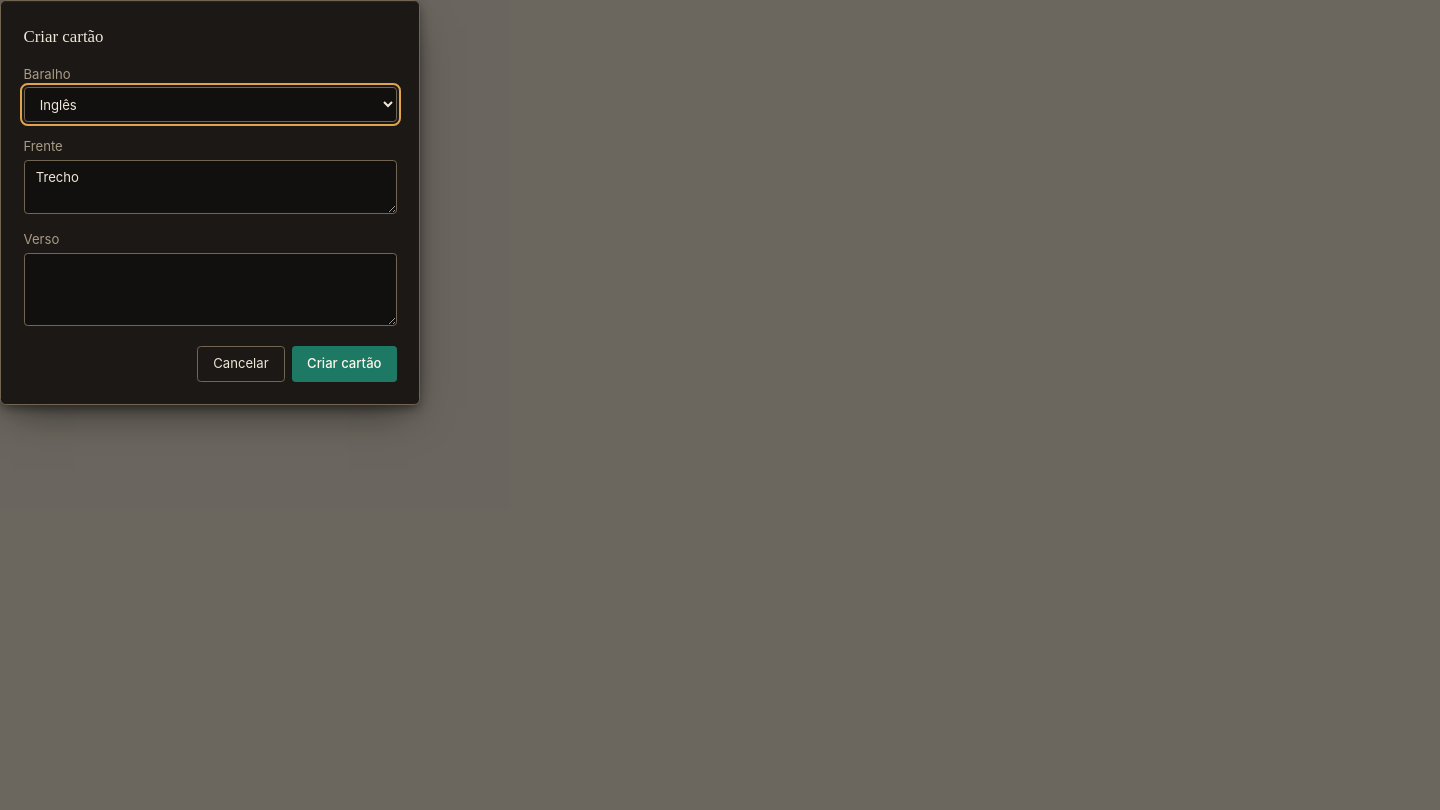
Test: CriarCartaoDeOrigem › erro ao criar mostra uma mensagem visível, nunca tela branca
This screenshot has width=1440, height=810.
In the text box labelled "Verso": x=210, y=289 [24,253,396,326], type "Verso"
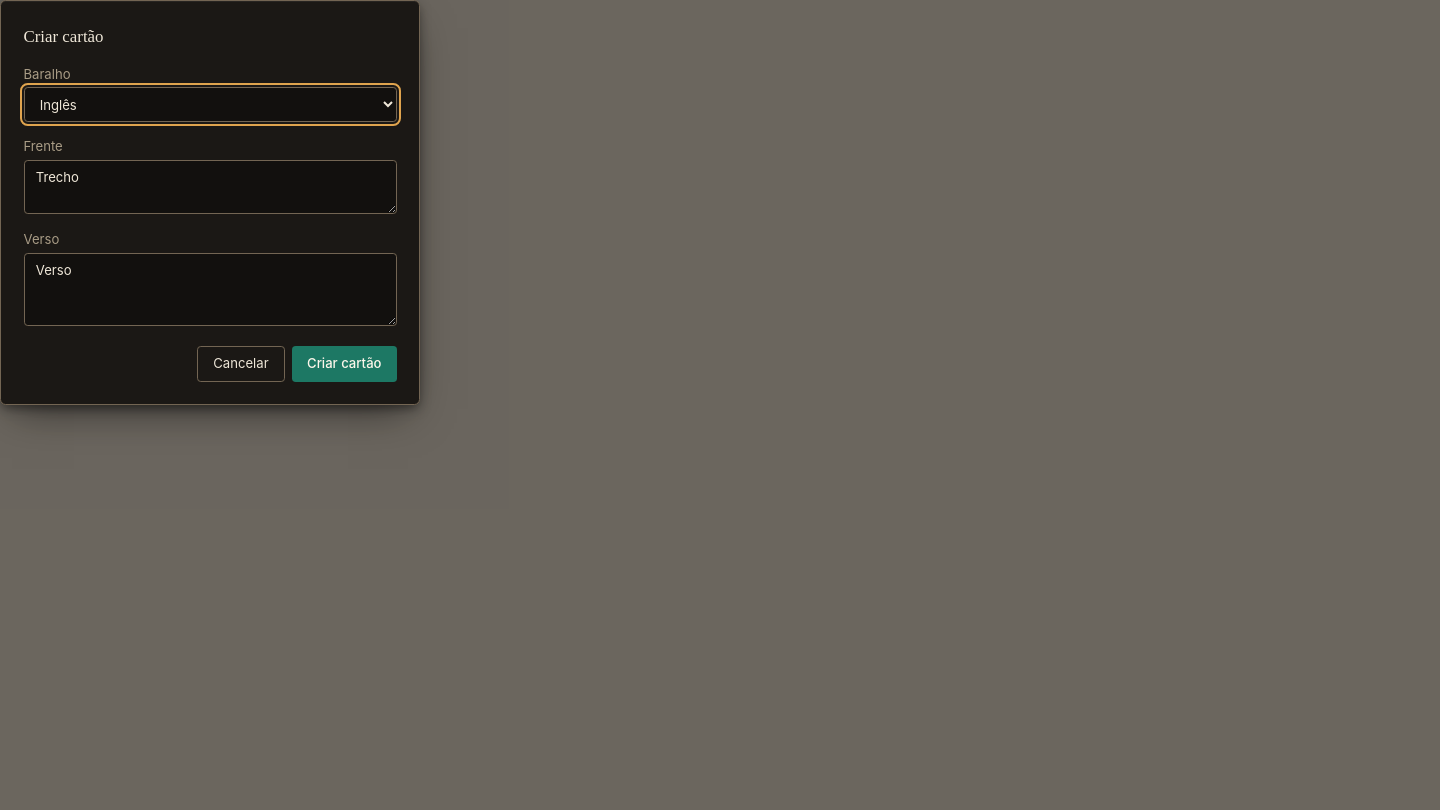
Click the button "Criar cartão": x=344, y=364 [292,346,396,382]
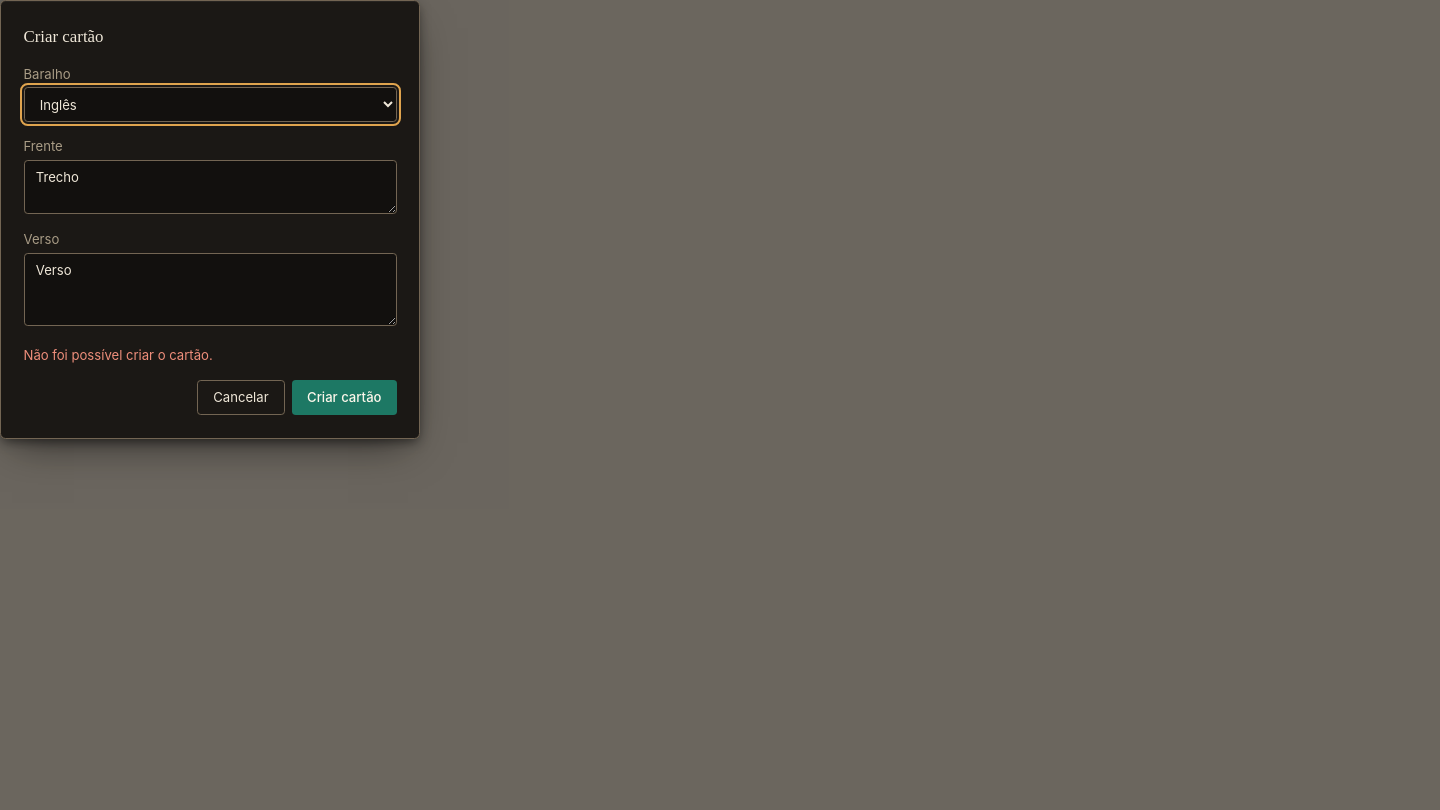
Result: the message reads "Não foi possível criar o cartão." at [24,347,213,363]
